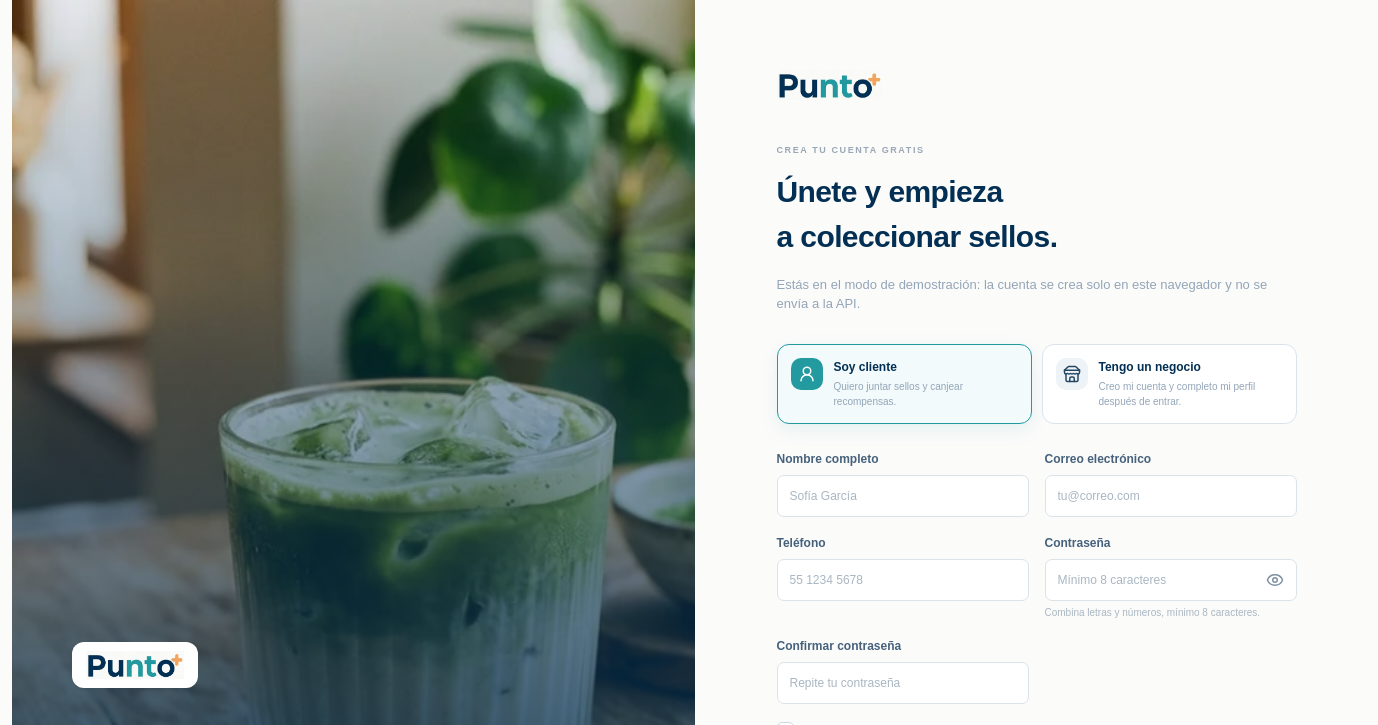
Test: Página de registro › pide los mismos campos al elegir cliente o negocio
The image size is (1378, 725).
Click the radio button labelled "Tengo un negocio". click: [1169, 384]
box: [1042,344,1296,424]
(page scrolled)
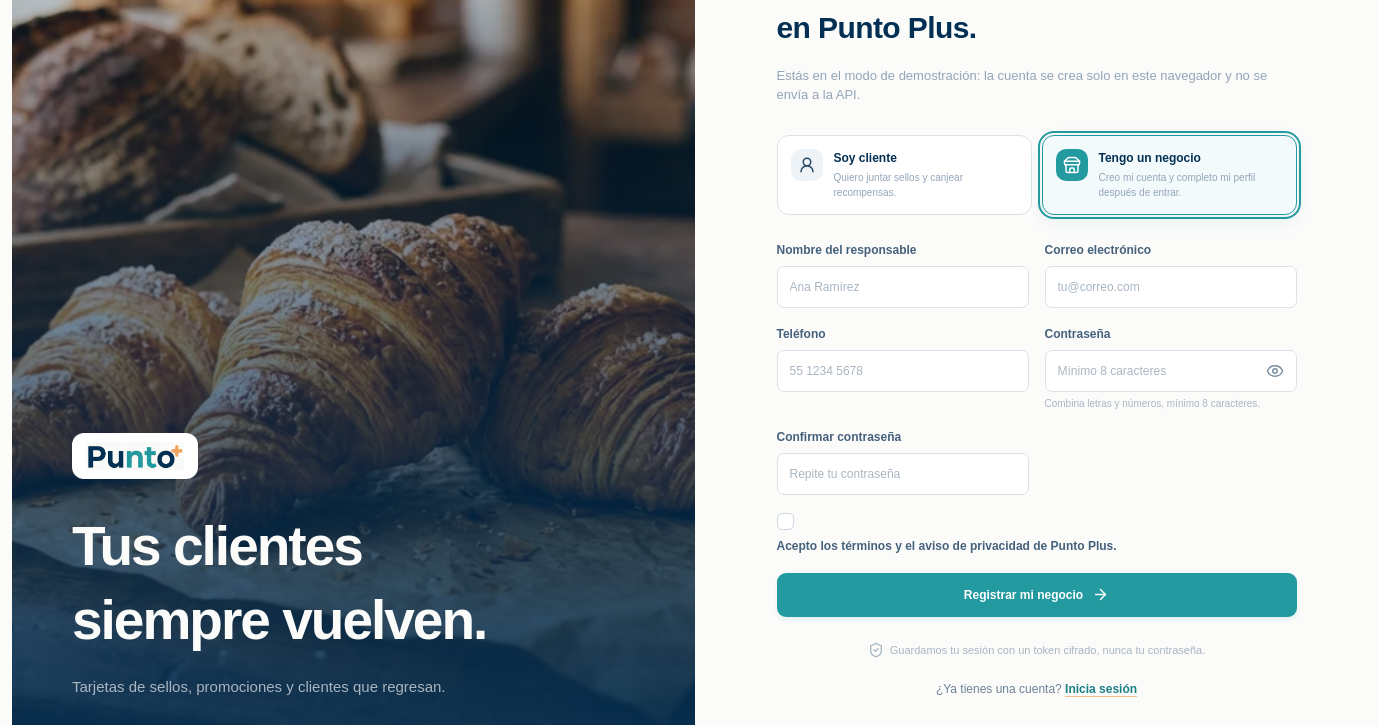
expect the field labelled "Teléfono" is shown: met, box [776,350,1028,392]
expect the button "Registrar mi negocio" is shown: met, box [776,573,1296,617]
